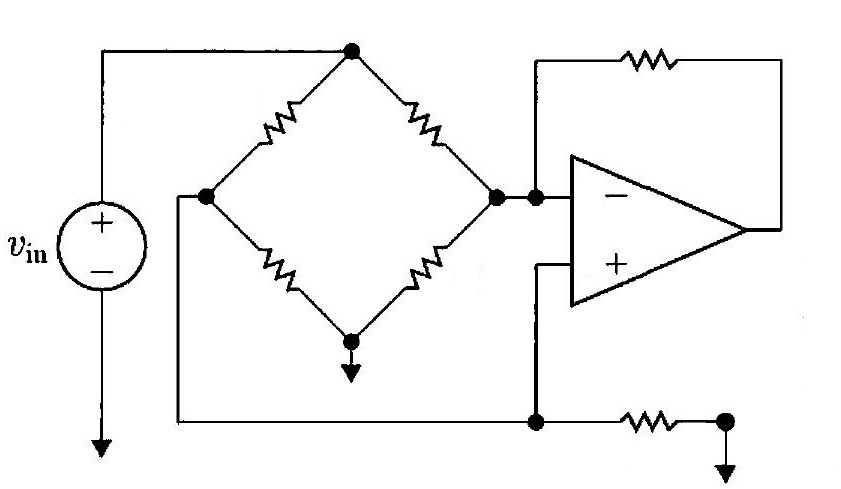op: (560, 143, 751, 318)
resistor: (396, 92, 455, 155), (399, 237, 455, 297), (252, 93, 308, 150), (252, 239, 306, 296), (611, 42, 688, 80), (611, 402, 686, 441)
voltage: (51, 193, 156, 301)
